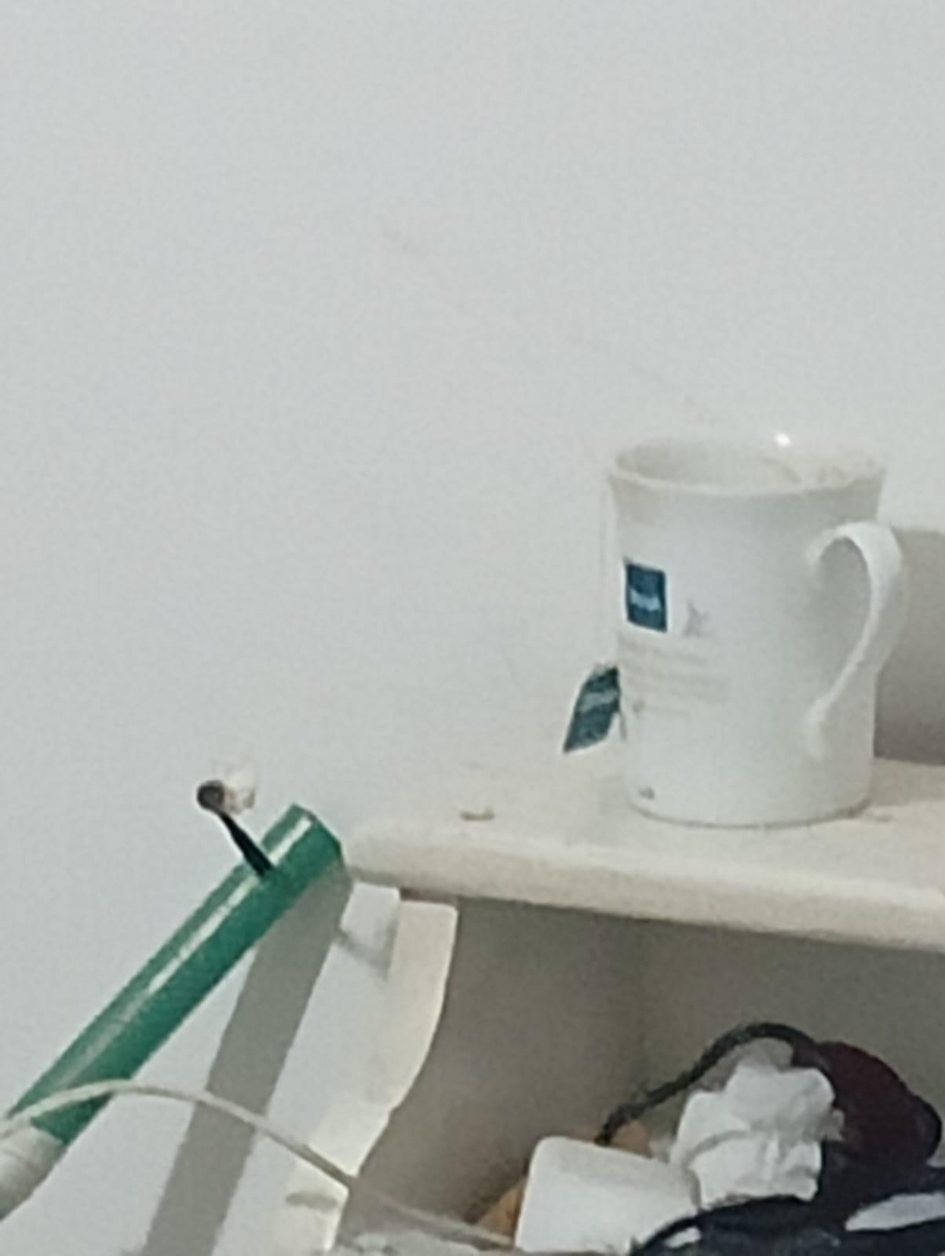cup: (609, 434, 906, 825)
